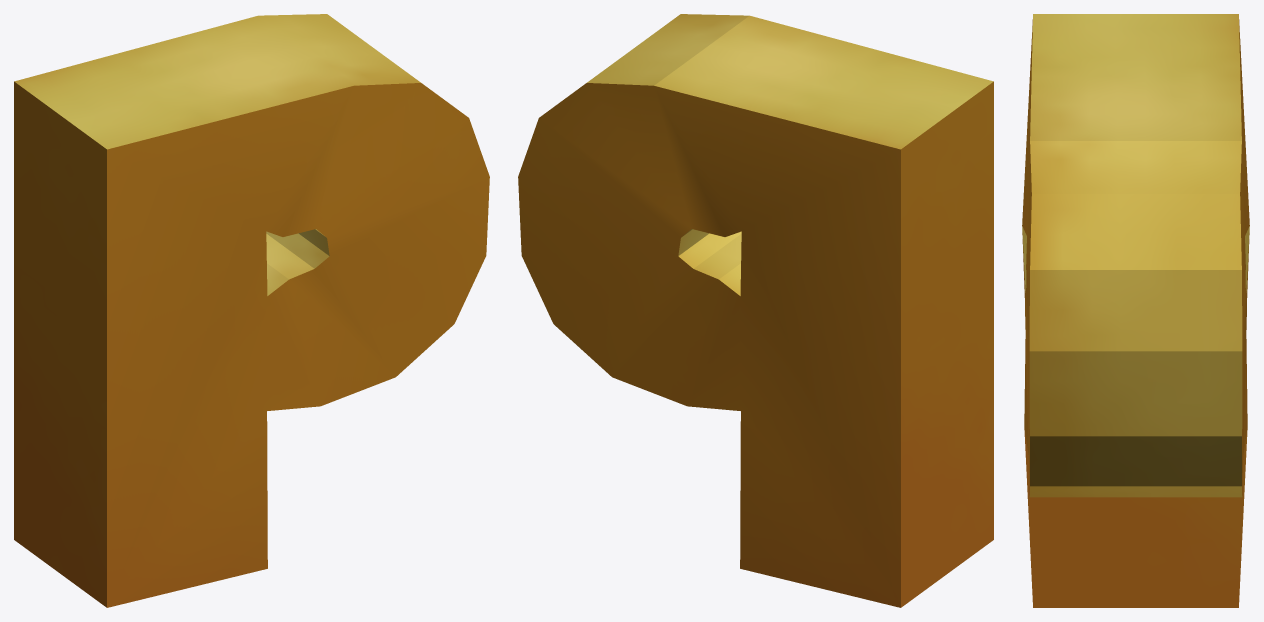
File: Model_Q_FontP.FBX
3 renders of one model, left to right at view 1: azimuth 30°, elevation 25°; view 2: azimuth 150°, elevation 25°; view 3: azimuth 270°, elevation 25°, orthographic. The views are drawn at different scales.
Visible parts, largest first — view 1: Model_Q_FontP01; view 2: Model_Q_FontP01; view 3: Model_Q_FontP01.
Boxes of the visible parts, box(x1,y1,x2,y2) form: Model_Q_FontP01: box(14, 14, 489, 607); Model_Q_FontP01: box(518, 14, 993, 607); Model_Q_FontP01: box(1022, 14, 1249, 607).
Bounding box in the file's own units: 2.47 × 2.87 × 1.16.
